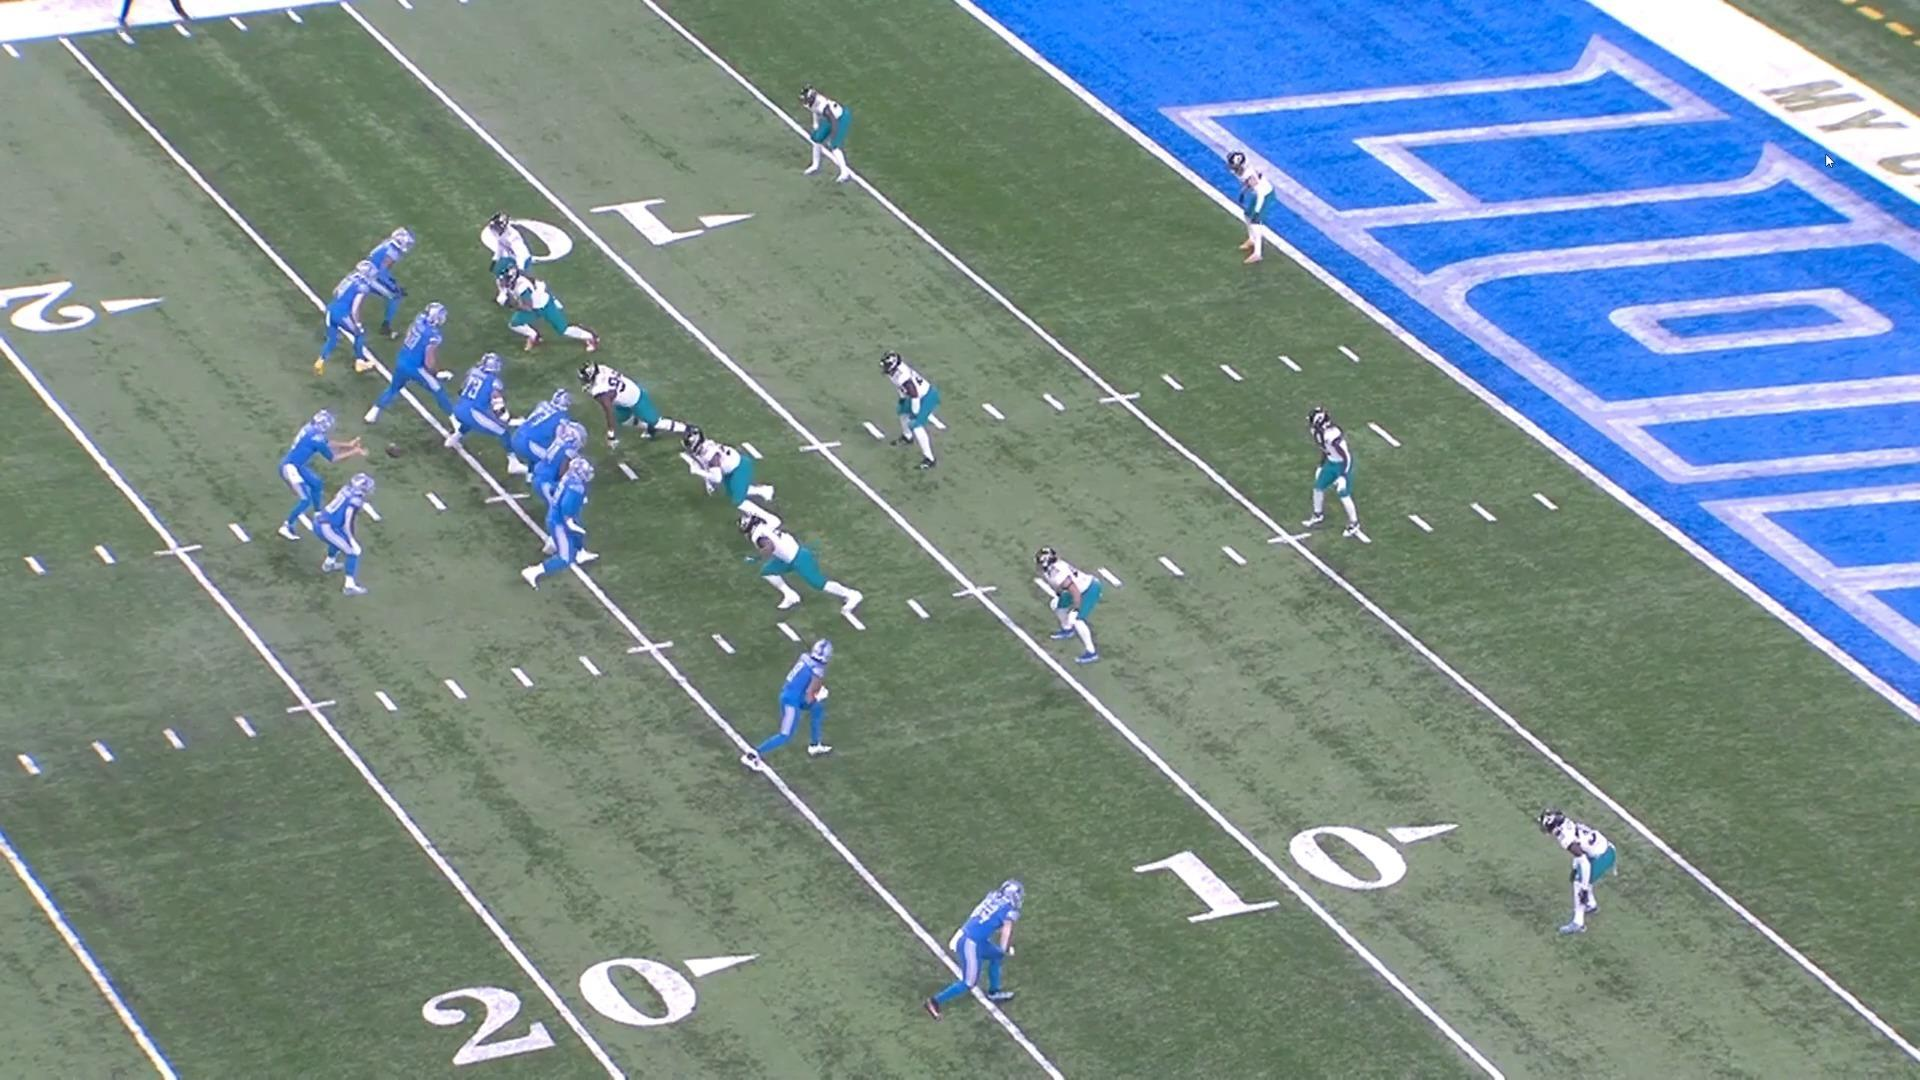10R: (1131, 823, 1460, 923), (481, 199, 757, 261)
20R: (418, 953, 761, 1065), (0, 280, 167, 332)
